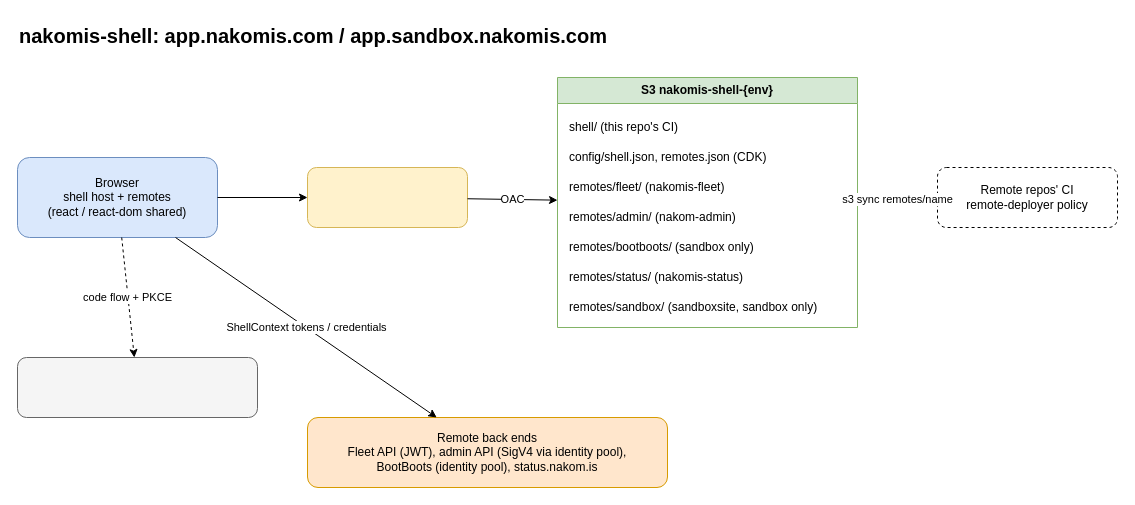
This 1135x505 diagram has some shape labels left out. Here are the shapes that lost their labels. From the top down, the box of each, then its label:
(306, 166, 468, 228): CloudFront rewrite function
(16, 356, 258, 418): Cognito shared pool (nakomis-infra) app client nakomis-shell-{env}
